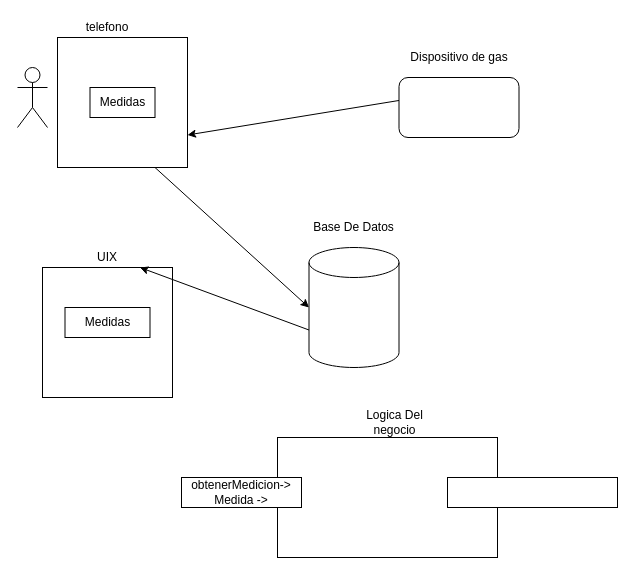
Image size: 635x575. Some labels were removed from this diagram. The shapes that lost their labels are listed below. From the top down, each one's centre as x and y in pixels, then its label:
At [32,97]: "Actor".
At [532,492]: "ObtenerMedicionesUlt24h-> List<Medida> ->".
